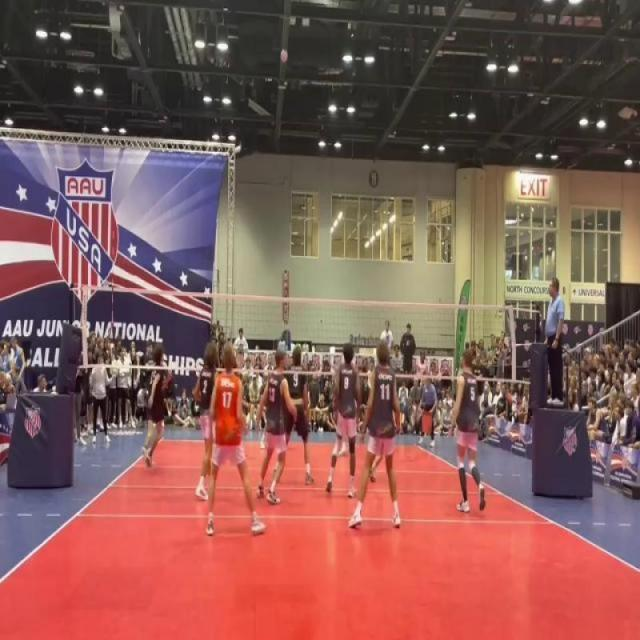volleyball: (280, 48, 288, 64)
